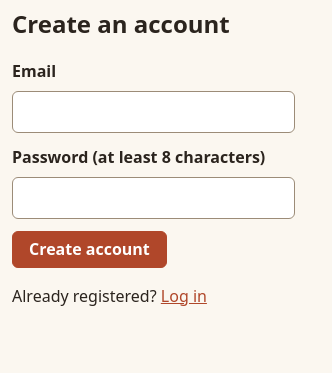
Test: RegisterPage: the form › shows each server message beside its own field
The image size is (332, 373).
Step 1. Click the button "Create account" → click(89, 249), box [12, 231, 167, 268]
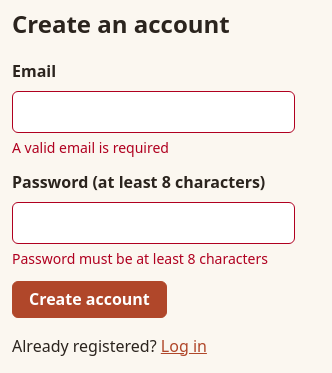
Check: the text "Password must be at least 8 characters" is shown, box [12, 248, 269, 269]
